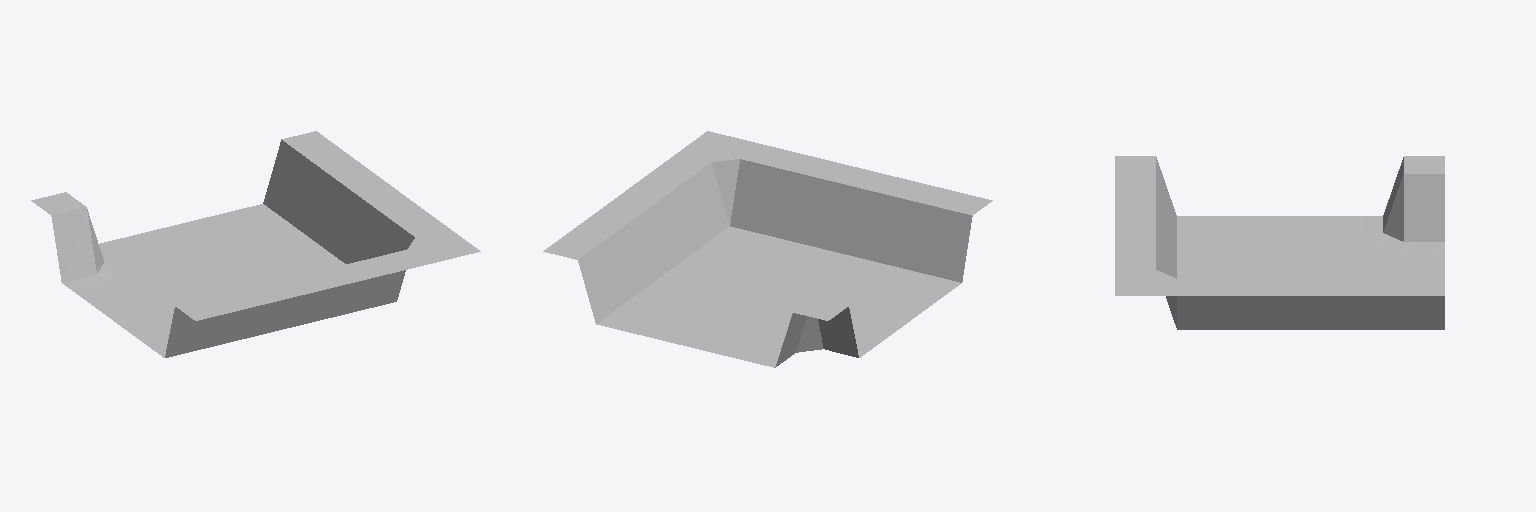
The model's file is predioL.obj.
3 renders of one model, left to right at view 1: azimuth 30°, elevation 25°; view 2: azimuth 150°, elevation 25°; view 3: azimuth 270°, elevation 25°, orthographic.
Visible parts, largest first — view 1: Plane; view 2: Plane; view 3: Plane.
Boxes of the visible parts, box(x1,y1,x2,y2) form: Plane: box(31, 131, 480, 357); Plane: box(543, 131, 992, 367); Plane: box(1115, 156, 1444, 329).
Bounding box in the file's own units: 2 × 0.4 × 2.